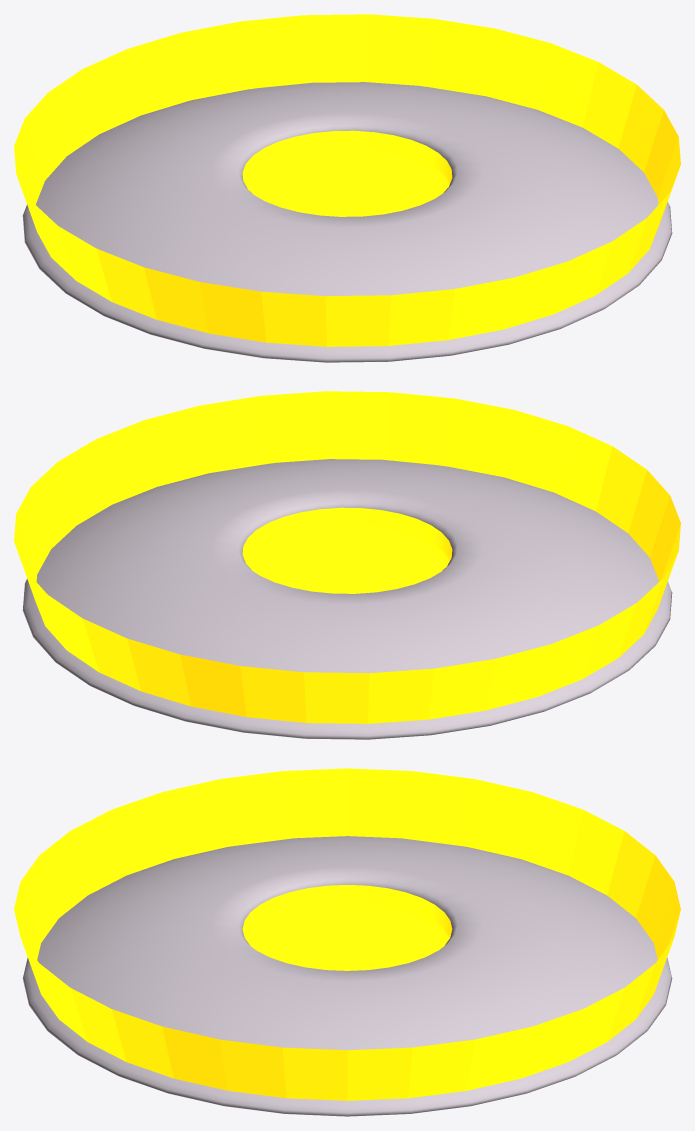
The model's file is jump pad.glb.
The picture shows the model from 3 angles, top to bottom: view 1: azimuth 30°, elevation 25°; view 2: azimuth 150°, elevation 25°; view 3: azimuth 270°, elevation 25°; orthographic projection.
Visible parts, largest first — view 1: Circle; view 2: Circle; view 3: Circle.
Part boxes in pixels (<box>): Circle: <box>14,14,680,362</box>; Circle: <box>14,391,680,739</box>; Circle: <box>14,768,680,1116</box>.
Size of the model in its own units: 1.99 by 0.2366 by 1.99.
